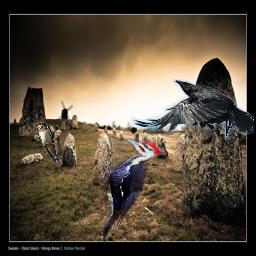Crow: (131, 79, 254, 139)
Swallow: (35, 122, 60, 164)
Woodpecker: (102, 138, 167, 245)
